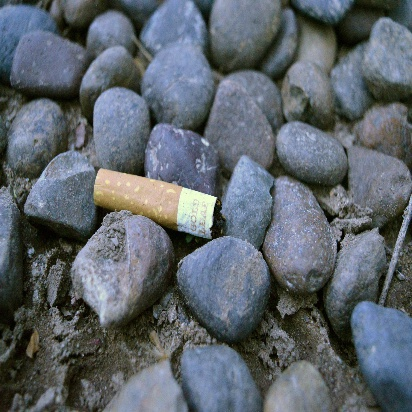cigarette: (89, 165, 223, 244)
